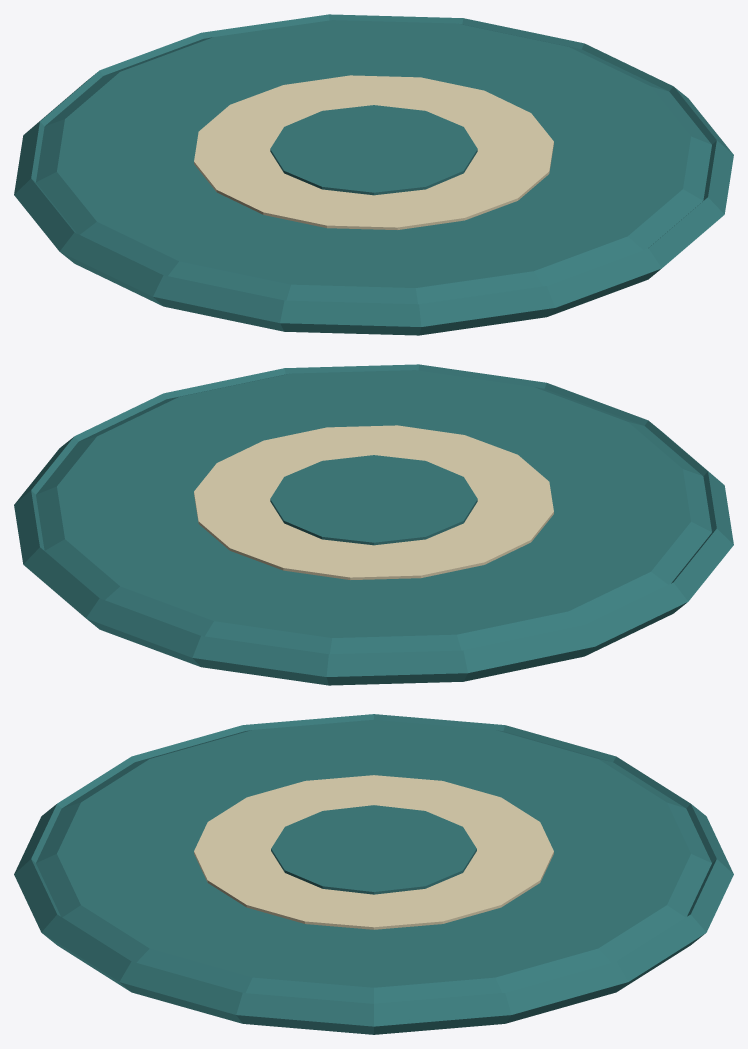
The model's file is b17_flying_disc.glb.
3 renders of one model, top to bottom at view 1: azimuth 30°, elevation 25°; view 2: azimuth 150°, elevation 25°; view 3: azimuth 270°, elevation 25°, orthographic.
Visible parts, largest first — view 1: b17_flying_disc; view 2: b17_flying_disc; view 3: b17_flying_disc.
Boxes of the visible parts, <box> form: b17_flying_disc: <box>14,14,733,335</box>; b17_flying_disc: <box>14,364,733,685</box>; b17_flying_disc: <box>14,714,733,1034</box>.
Size of the model in its own units: 0.252 by 0.016 by 0.252.
